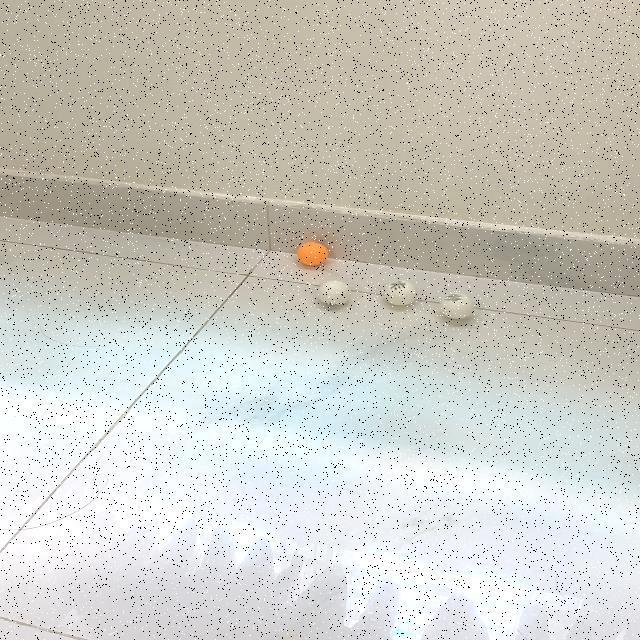ping-pong-ball: (439, 291, 474, 319), (384, 281, 418, 306), (318, 282, 352, 306), (298, 242, 330, 266)
